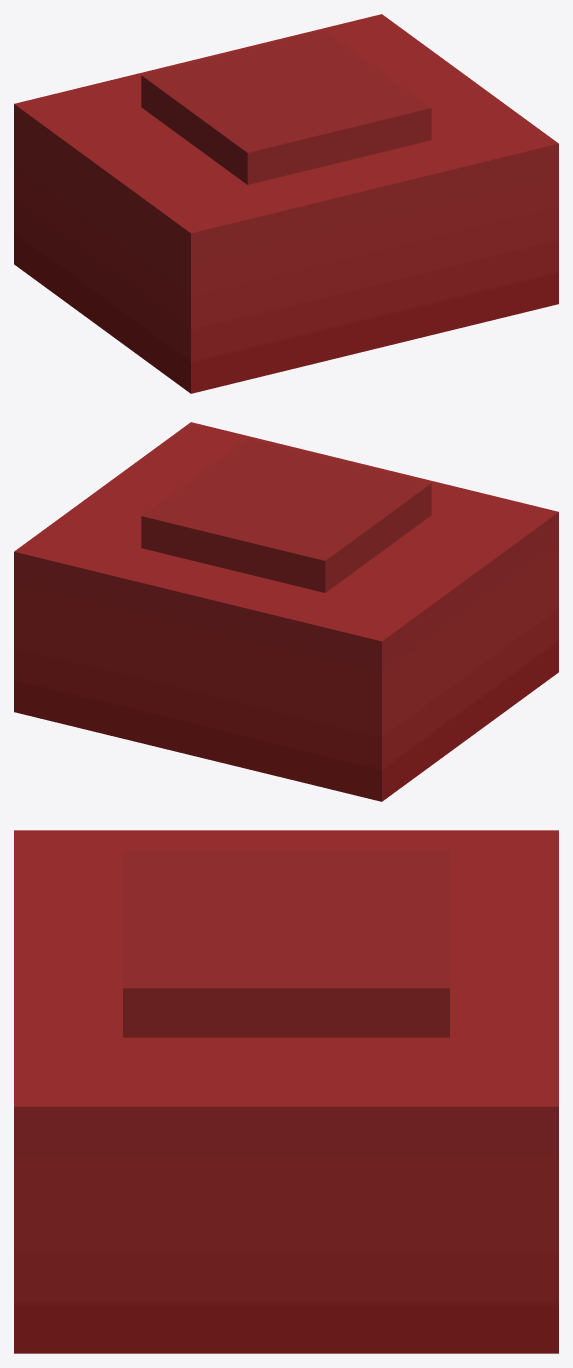
File: Chest061.fbx
3 views of the same model, one above another, from view 1: azimuth 30°, elevation 25°; view 2: azimuth 150°, elevation 25°; view 3: azimuth 270°, elevation 25° (orthographic). The views are drawn at different scales.
Parts seen in each view (by area): view 1: Chest061; view 2: Chest061; view 3: Chest061.
Boxes of the visible parts, x1,y1,x2,y2 form: Chest061: (14,14,558,393); Chest061: (14,422,558,801); Chest061: (14,830,558,1353).
Size of the model in its own units: 12 by 6 by 10.
